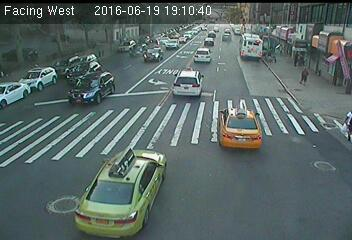neg: (45, 40, 70, 73), (121, 27, 144, 58), (181, 23, 204, 54), (234, 117, 254, 144), (199, 95, 219, 121), (156, 81, 170, 100)
pos: (297, 64, 314, 87), (288, 50, 304, 71)
